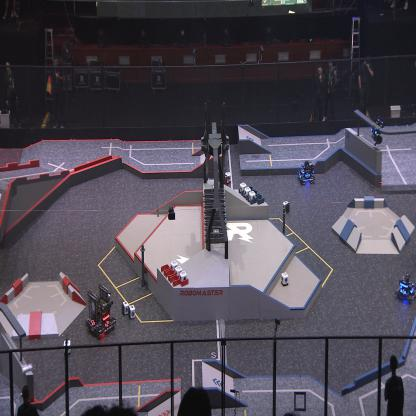car: (84, 282, 117, 336), (394, 273, 416, 303), (212, 164, 230, 192), (296, 160, 315, 186)
